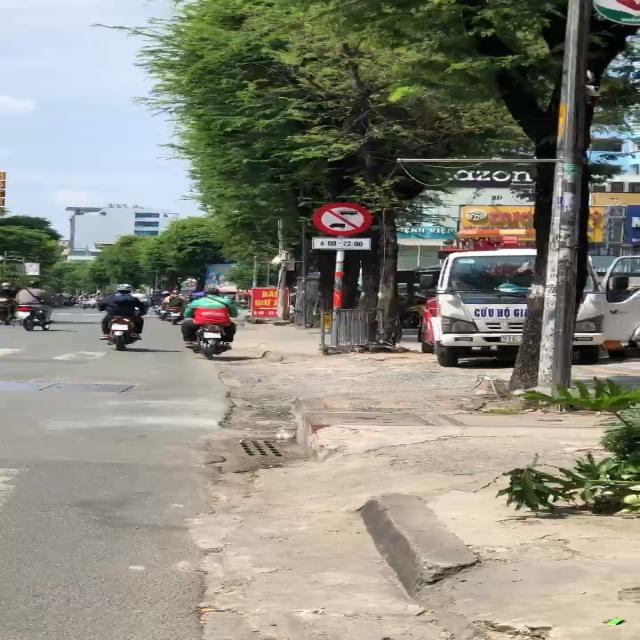Bien bao cam xe oto khach va xe oto tai: (310, 197, 373, 234)
